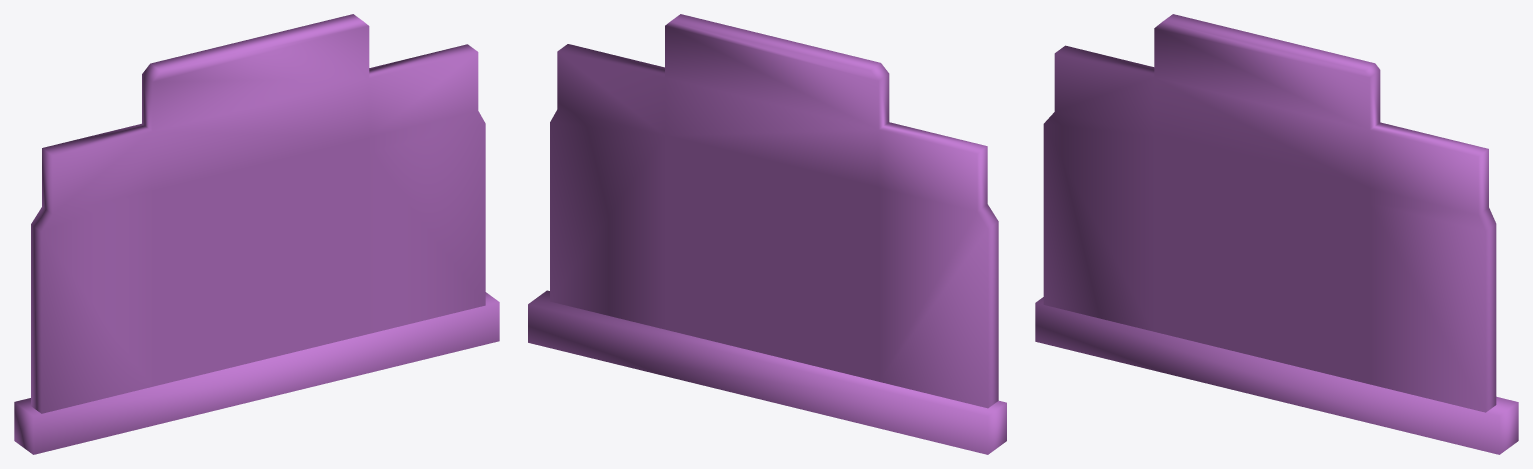
File: IndBuilding2_End_B_COL.fbx
3 views of the same model, side by side, from view 1: azimuth 30°, elevation 25°; view 2: azimuth 150°, elevation 25°; view 3: azimuth 330°, elevation 25° (orthographic).
Parts seen in each view (by area): view 1: IndBuilding2_End_B_COL; view 2: IndBuilding2_End_B_COL; view 3: IndBuilding2_End_B_COL.
Boxes of the visible parts, x1=… form: IndBuilding2_End_B_COL: x1=14, y1=14, x2=499, y2=454; IndBuilding2_End_B_COL: x1=528, y1=14, x2=1006, y2=454; IndBuilding2_End_B_COL: x1=1035, y1=14, x2=1518, y2=454.
Bounding box in the file's own units: 12.6 × 9.1 × 0.9.
